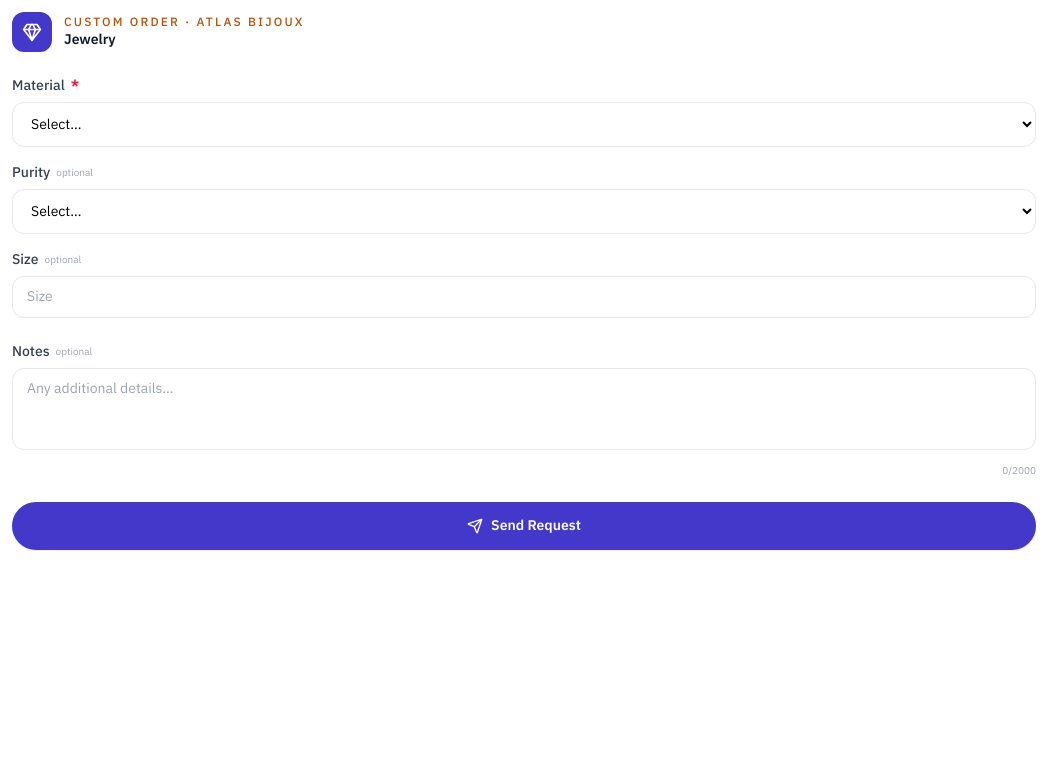
Test: CustomOrderForm — jewelry fields from verticalService › submitting without material shows a required error for material
The image size is (1048, 780).
Expected: the dropdown labelled "Material *" is shown, left=12, top=102, right=1036, bottom=147
Click the submit button: (524,526) left=12, top=502, right=1036, bottom=550
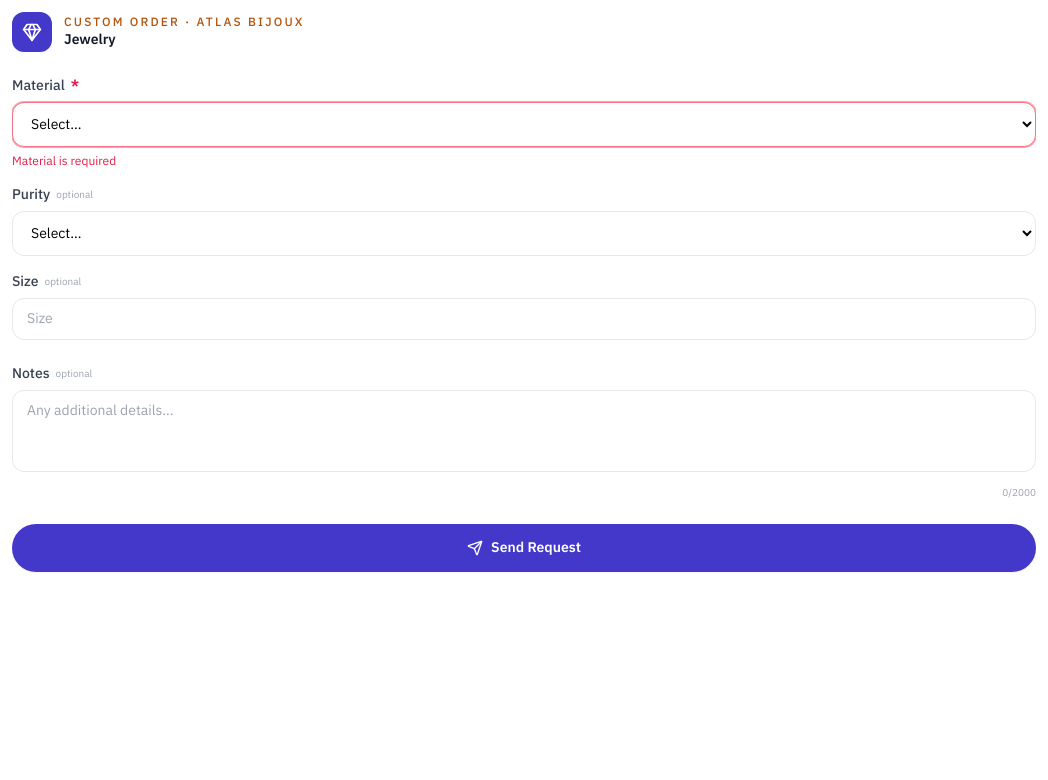
Now the message "Material is required" is shown, box left=12, top=152, right=116, bottom=170
